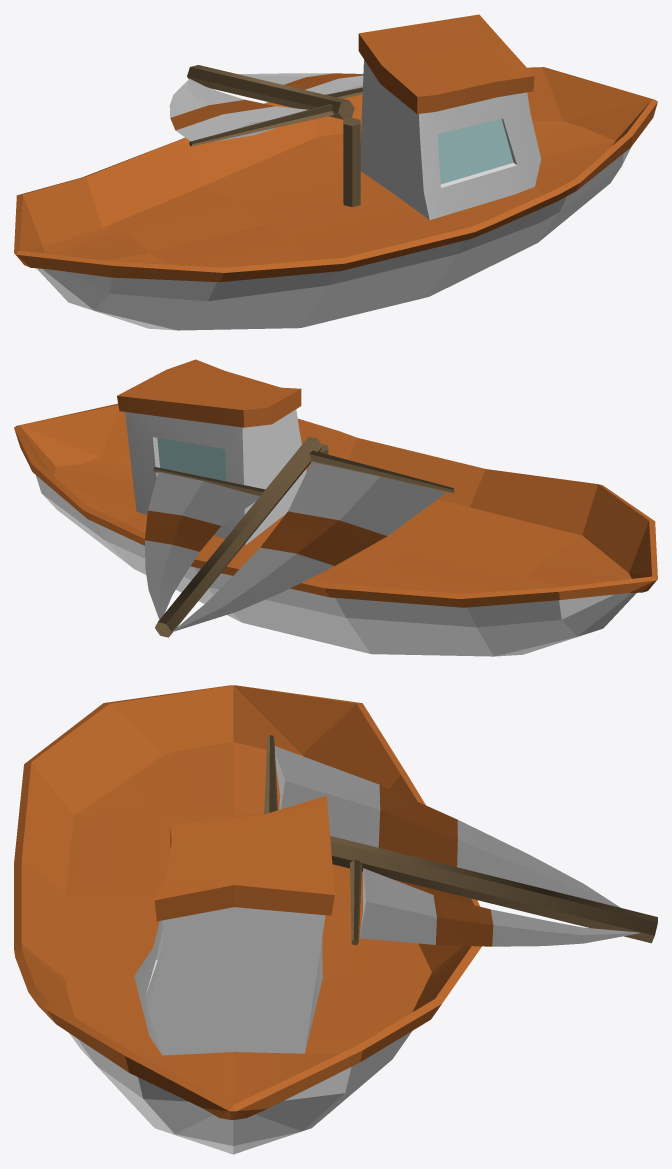
Rendered from Ship_Damaged.fbx.
3 views of the same model, one above another, from view 1: azimuth 30°, elevation 25°; view 2: azimuth 150°, elevation 25°; view 3: azimuth 270°, elevation 25° (orthographic). The views are drawn at different scales.
Parts seen in each view (by area): view 1: Ship_Damaged; view 2: Ship_Damaged; view 3: Ship_Damaged.
Boxes of the visible parts, x1,y1,x2,y2 form: Ship_Damaged: [14, 14, 657, 330]; Ship_Damaged: [14, 359, 657, 656]; Ship_Damaged: [14, 685, 657, 1154].
Size of the model in its own units: 0.0687 by 0.0241 by 0.0444.
